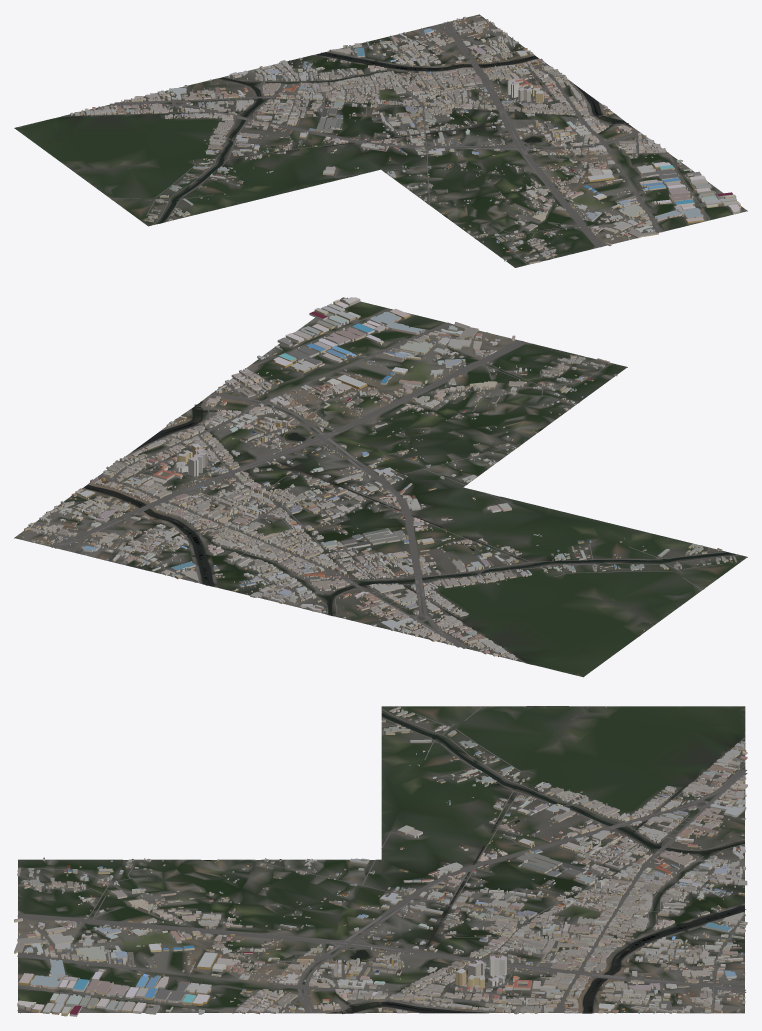
3 renders of one model, top to bottom at view 1: azimuth 30°, elevation 25°; view 2: azimuth 150°, elevation 25°; view 3: azimuth 270°, elevation 25°, orthographic. The views are drawn at different scales.
Parts seen in each view (by area): view 1: ground, buildings, roads, water; view 2: ground, buildings, roads, water; view 3: ground, buildings, roads, water.
Boxes of the visible parts, bbox=[...] form: ground: bbox=[14, 14, 747, 267]; buildings: bbox=[67, 16, 740, 264]; roads: bbox=[62, 21, 746, 264]; water: bbox=[66, 52, 632, 223]; ground: bbox=[14, 297, 747, 677]; buildings: bbox=[18, 297, 737, 660]; roads: bbox=[28, 297, 742, 662]; water: bbox=[84, 400, 734, 660]; ground: bbox=[18, 706, 745, 1013]; buildings: bbox=[14, 706, 747, 1016]; roads: bbox=[17, 706, 747, 1013]; water: bbox=[204, 713, 745, 1013].
Size of the model in its own units: 2835 by 79.09 by 2828.
